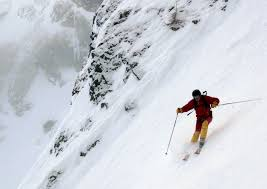skier: (164, 88, 265, 158)
